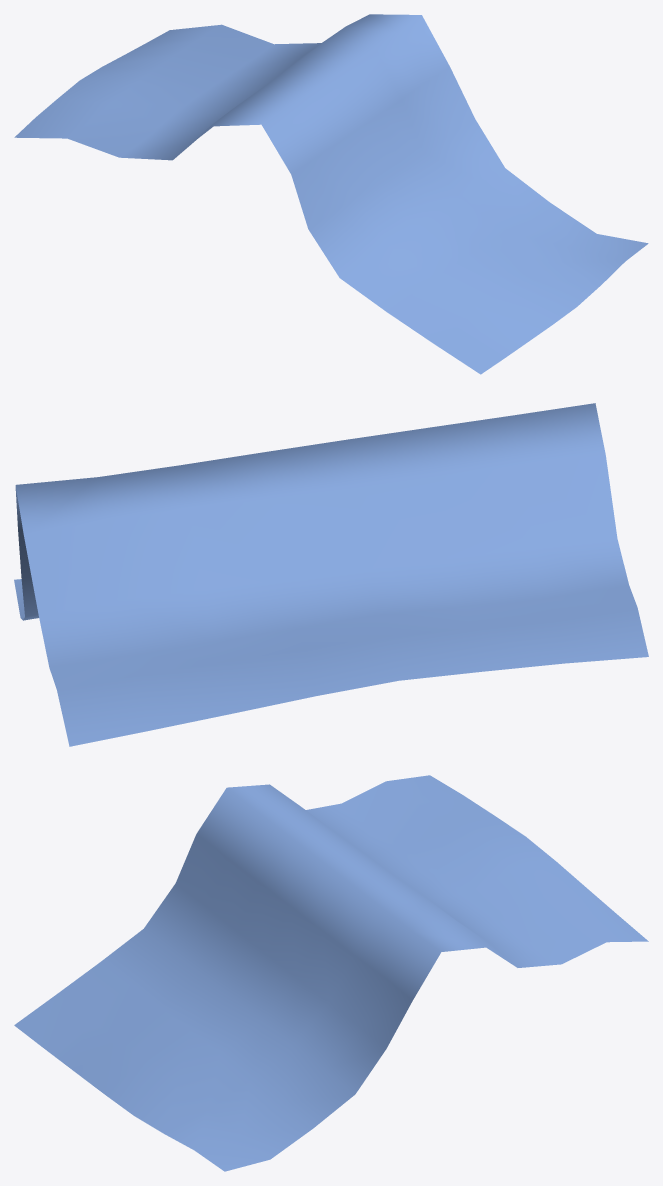
The model's file is EsparadrapoFijadoInferior.fbx.
The picture shows the model from 3 angles, top to bottom: view 1: azimuth 30°, elevation 25°; view 2: azimuth 150°, elevation 25°; view 3: azimuth 270°, elevation 25°; orthographic projection. The views are drawn at different scales.
Parts seen in each view (by area): view 1: polySurface44; view 2: polySurface44; view 3: polySurface44.
Boxes of the visible parts, <box> form: polySurface44: <box>14,14,648,374</box>; polySurface44: <box>14,403,648,746</box>; polySurface44: <box>14,775,648,1171</box>.
Size of the model in its own units: 0.0391 by 0.0151 by 0.0425.
